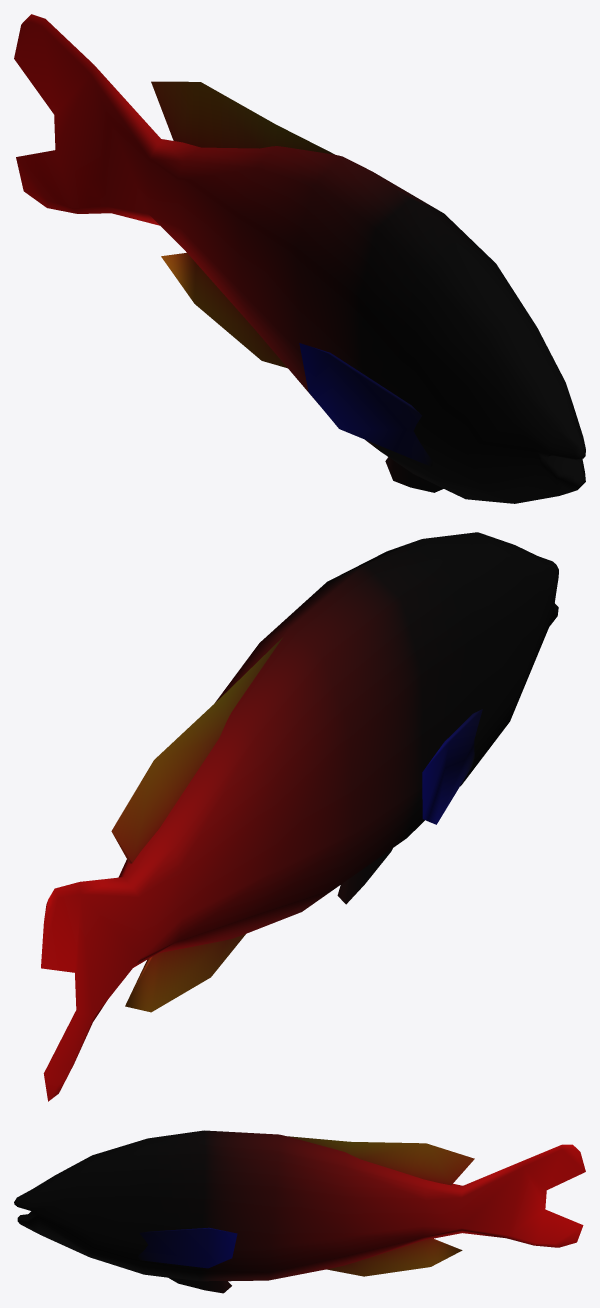
3 views of the same model, one above another, from view 1: azimuth 30°, elevation 25°; view 2: azimuth 150°, elevation 25°; view 3: azimuth 270°, elevation 25° (orthographic). The views are drawn at different scales.
Visible parts, largest first — view 1: damselfish; view 2: damselfish; view 3: damselfish.
Part boxes in pixels (<box>): damselfish: <box>14,14,585,503</box>; damselfish: <box>41,532,558,1101</box>; damselfish: <box>14,1130,585,1293</box>.
Bounding box in the file's own units: 0.0282 × 0.0486 × 0.1545.
